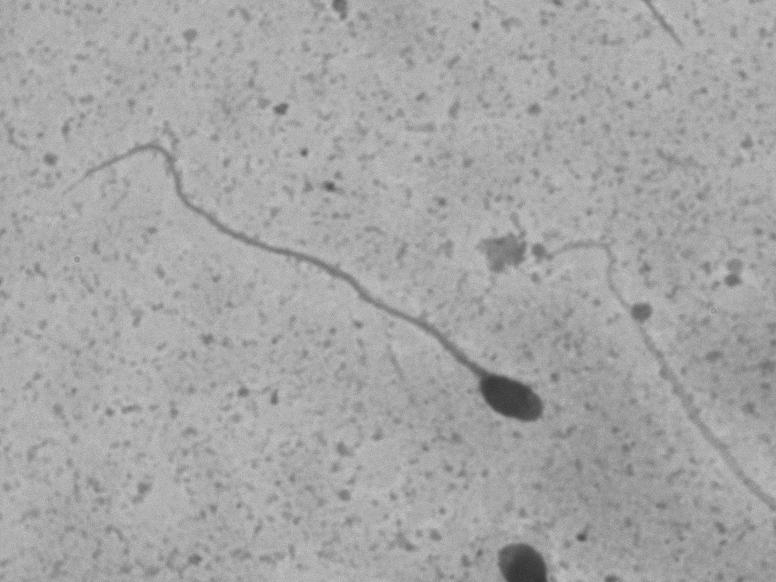Abnormal: (56, 69, 563, 456)
